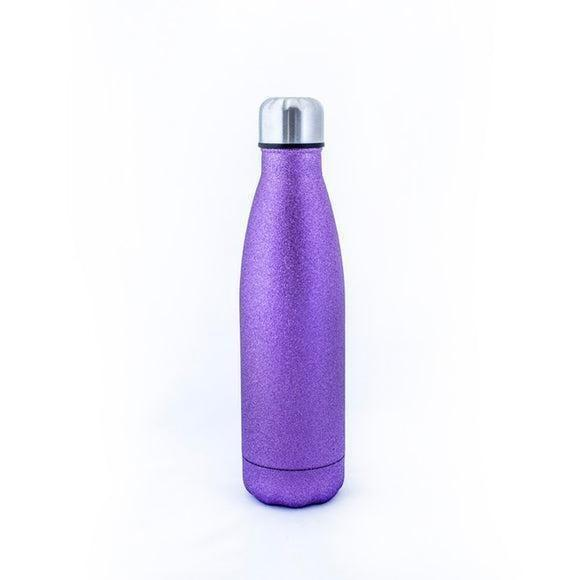gym bottle: (235, 94, 351, 512)
